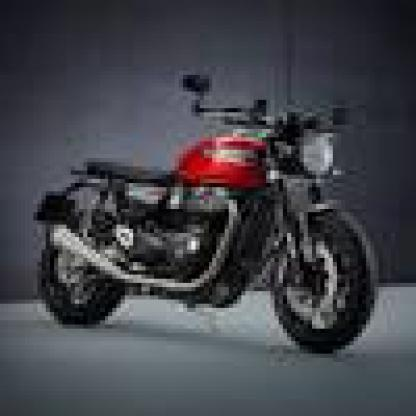Motorcycle: (29, 61, 394, 354)
